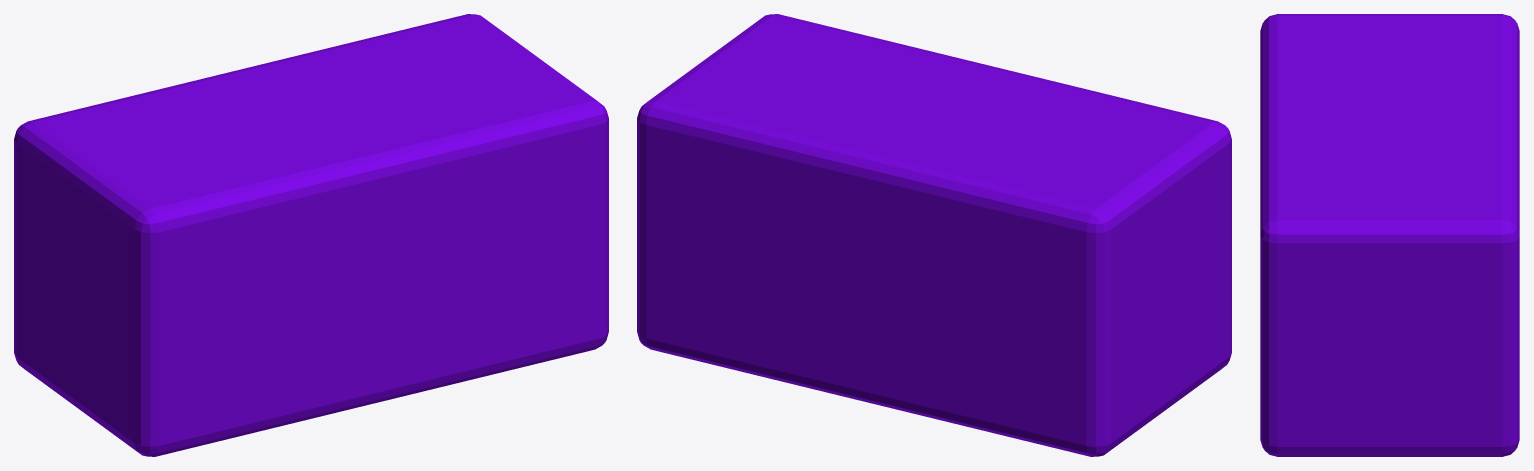
Rendered from Tetra.fbx.
3 views of the same model, side by side, from view 1: azimuth 30°, elevation 25°; view 2: azimuth 150°, elevation 25°; view 3: azimuth 270°, elevation 25° (orthographic). The views are drawn at different scales.
Visible parts, largest first — view 1: Tetra; view 2: Tetra; view 3: Tetra.
Boxes of the visible parts, left/top/right/bottom form: Tetra: left=14, top=14, right=608, bottom=456; Tetra: left=637, top=14, right=1231, bottom=456; Tetra: left=1260, top=14, right=1519, bottom=456.
Bounding box in the file's own units: 400 × 200 × 200.
